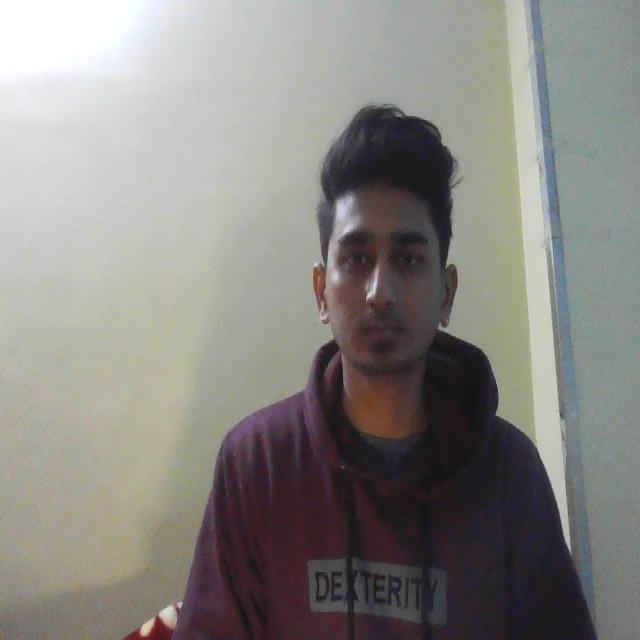real: (319, 127, 464, 400)
